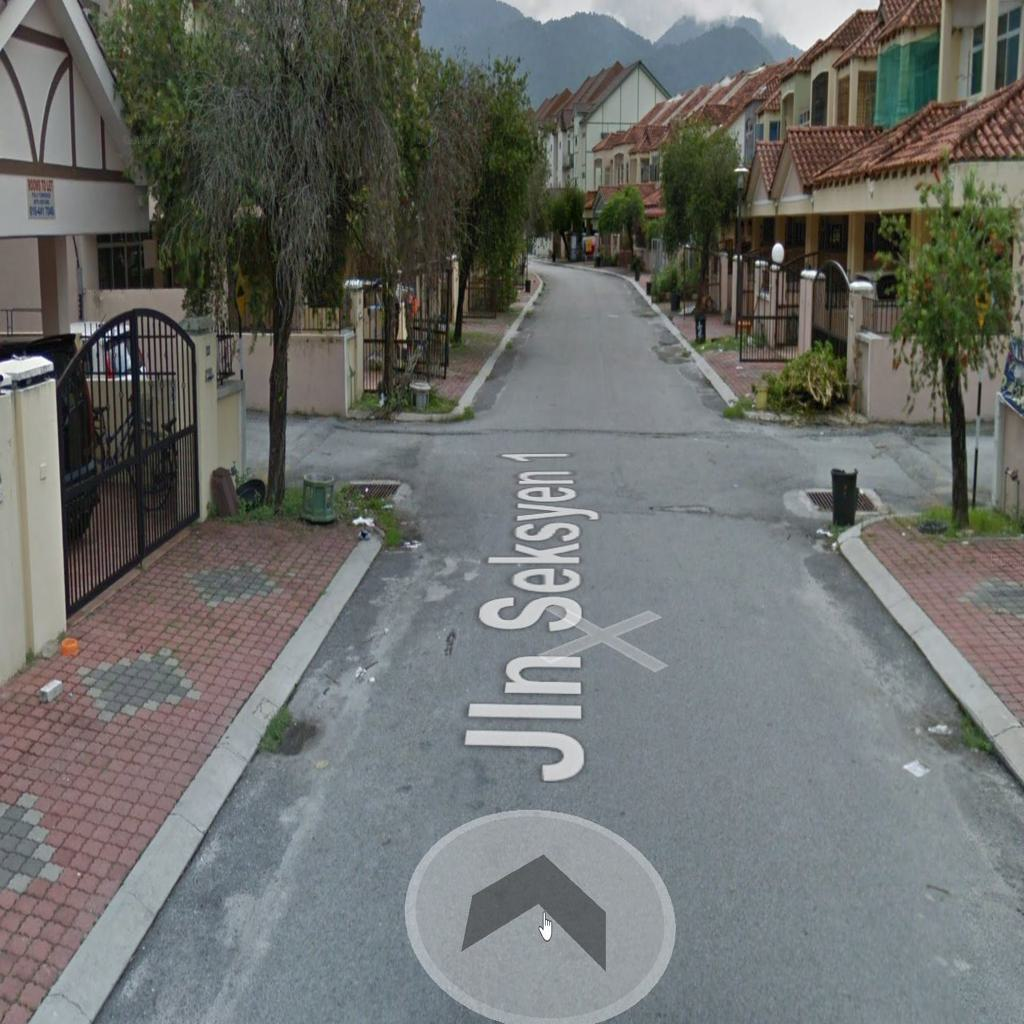Junction: (711, 372, 1003, 564), (241, 386, 491, 552)
